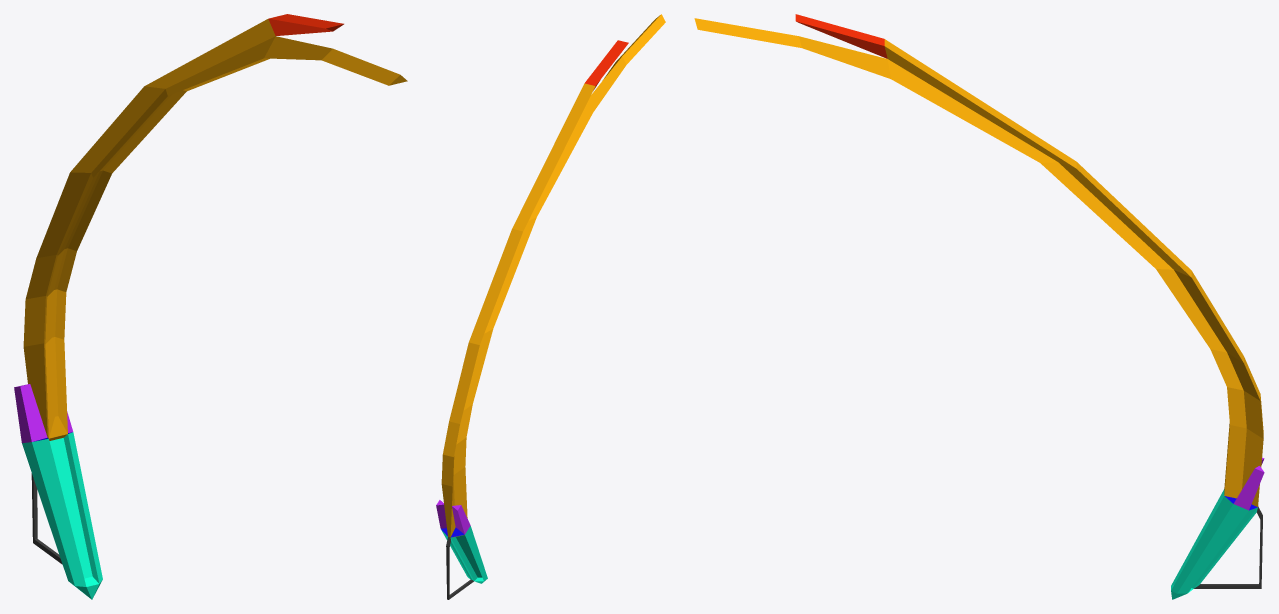
File: Main Support.FBX
The picture shows the model from 3 angles, left to right: view 1: azimuth 30°, elevation 25°; view 2: azimuth 150°, elevation 25°; view 3: azimuth 270°, elevation 25°; orthographic projection. The views are drawn at different scales.
Visible parts, largest first — view 1: Gengon004; view 2: Gengon004; view 3: Gengon004.
Part boxes in pixels (bbox=[...]): Gengon004: bbox=[14, 14, 407, 599]; Gengon004: bbox=[436, 14, 665, 599]; Gengon004: bbox=[694, 14, 1264, 599].
Size of the model in its own units: 10.22 by 177 by 157.
